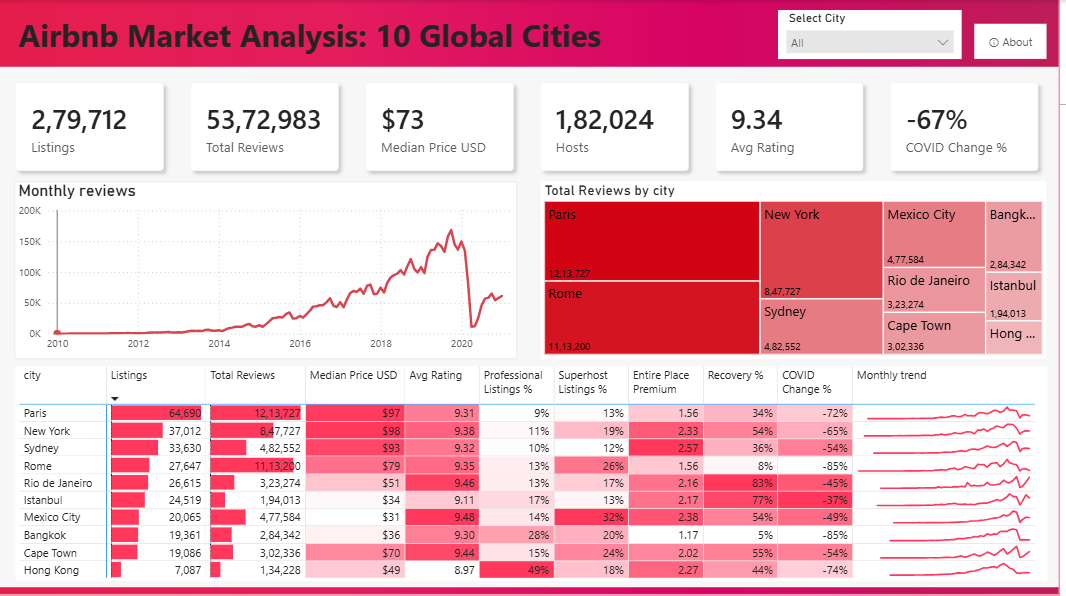

Layout of this report page (visuals, bound fields, positions):
{"tool":"powerbi","page":{"name":"1. Overview","canvas":[1280,720],"ordinal":0},"visuals":[{"type":"textbox","box":[20,12,850,60],"z":0},{"type":"slicer","fields":{"Values":["dim_city.city"]},"box":[941,12.1,221.7,58.8],"z":1000},{"type":"cardVisual","fields":{"Data":["_Measures.Listings","_Measures.Total Reviews","_Measures.Median Price USD","_Measures.Hosts","_Measures.Avg Rating","_Measures.COVID Change %"]},"box":[0,78.2,1280.3,149.6],"z":2000},{"type":"lineChart","title":"Monthly reviews ","fields":{"Category":["dim_date.month_start"],"Y":["_Measures.Total Reviews"]},"box":[20,218,606.5,214.1],"z":3000},{"type":"pivotTable","fields":{"Rows":["dim_city.city"],"Values":["_Measures.Listings","_Measures.Total Reviews","_Measures.Median Price USD","_Measures.Avg Rating","_Measures.Professional Listings %","_Measures.Superhost Listings %","_Measures.Entire Place Premium","_Measures.Recovery %","_Measures.COVID Change %","SparklineData(_Measures.Reviews Complete Months_[dim_date.month_start])"]},"box":[20.6,442,1244.6,259.3],"z":4000},{"type":"treemap","fields":{"Group":["dim_city.city"],"Values":["_Measures.Total Reviews"]},"box":[654.5,218,610.6,214.1],"z":5000},{"type":"actionButton","box":[1177.8,28.7,87.5,42.2],"z":6000}]}

Visuals, with their boxes in screenshot pixels (x1, y1, x2, y2), scaled from the page's 1280x720 canvas onto the 1066x596 screenshot:
textbox: select_region(17, 10, 725, 60)
slicer - dim_city.city: select_region(784, 10, 968, 59)
cardVisual - _Measures.Listings x _Measures.Total Reviews: select_region(0, 65, 1065, 189)
"Monthly reviews " lineChart: select_region(17, 180, 522, 358)
pivotTable - dim_city.city x _Measures.Listings: select_region(17, 366, 1054, 581)
treemap - dim_city.city x _Measures.Total Reviews: select_region(545, 180, 1054, 358)
actionButton: select_region(981, 24, 1054, 59)
